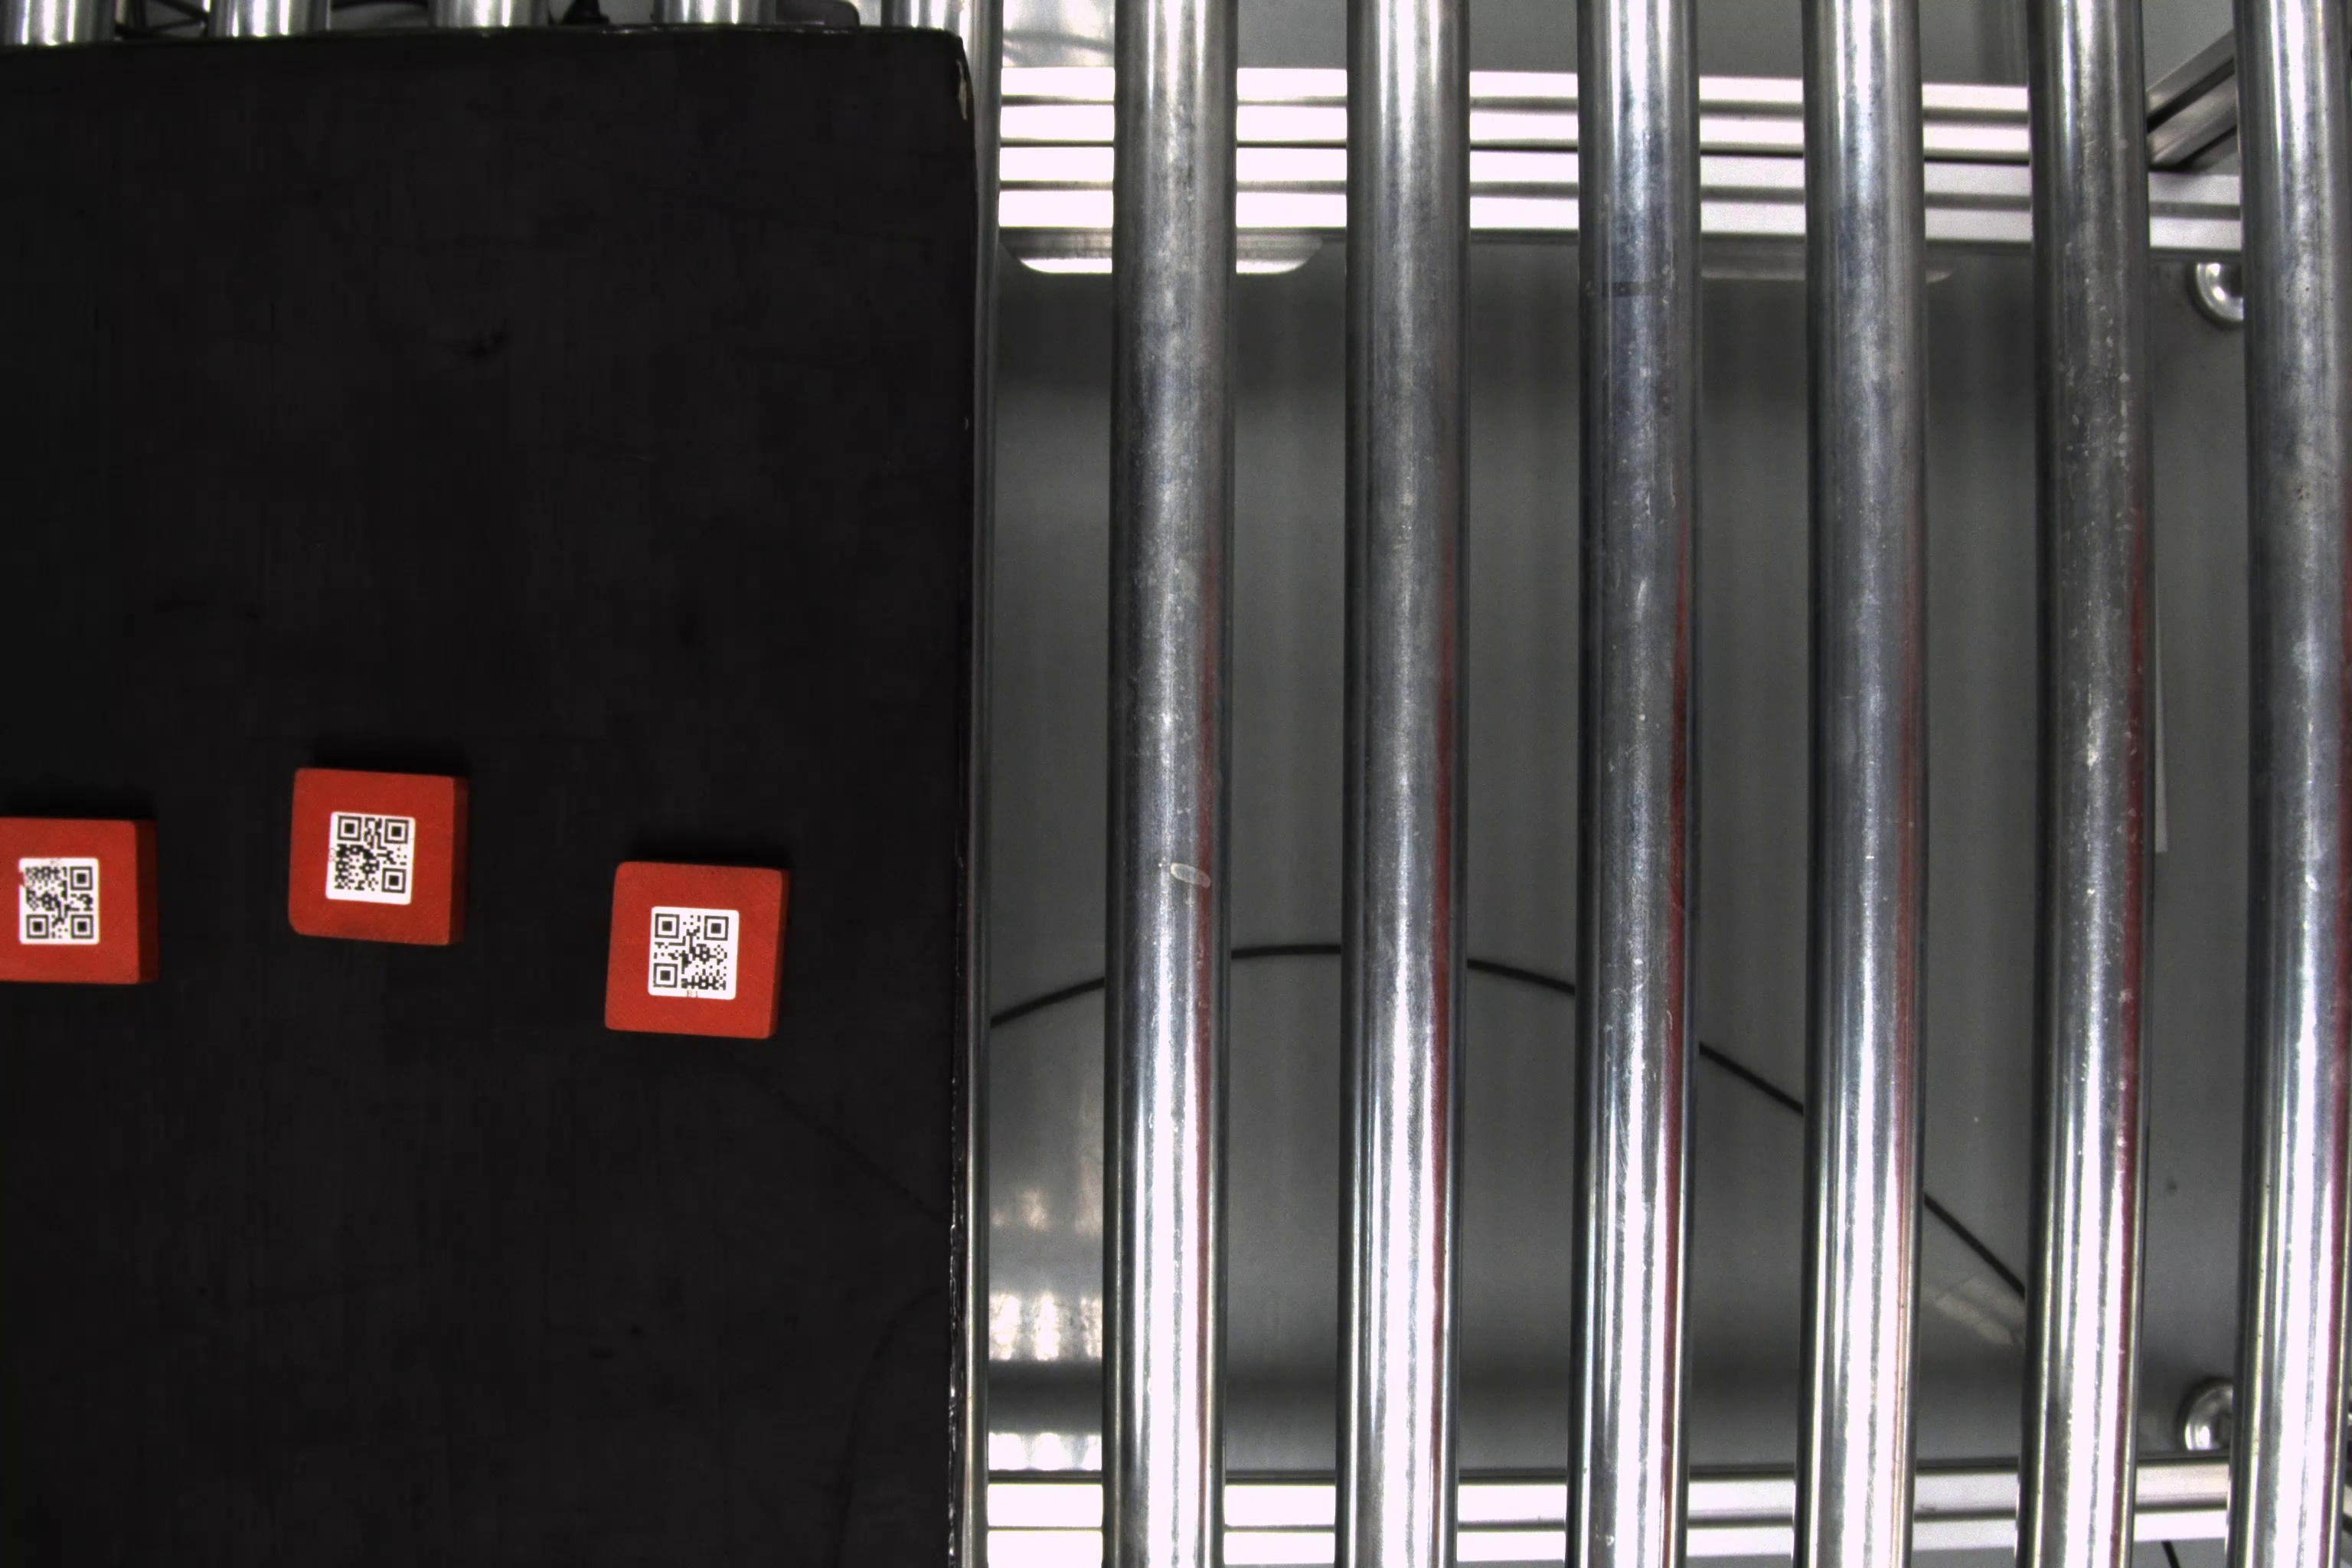wood: (285, 763, 471, 957), (605, 859, 796, 1039), (2, 810, 166, 992)
